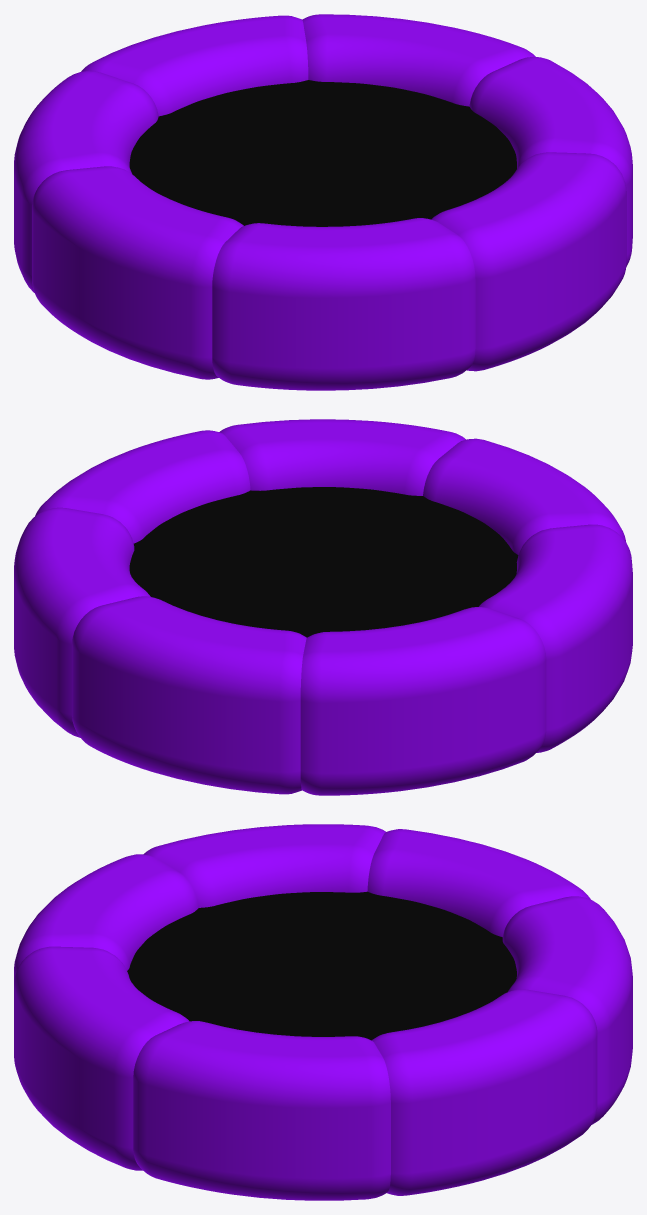
The model's file is trambolin yuvarlak.fbx.
The picture shows the model from 3 angles, top to bottom: view 1: azimuth 30°, elevation 25°; view 2: azimuth 150°, elevation 25°; view 3: azimuth 270°, elevation 25°; orthographic projection.
Visible parts, largest first — view 1: trambolin v4; view 2: trambolin v4; view 3: trambolin v4.
Boxes of the visible parts, x1=… form: trambolin v4: x1=14, y1=14, x2=632, y2=390; trambolin v4: x1=14, y1=419, x2=632, y2=795; trambolin v4: x1=14, y1=824, x2=632, y2=1200.
Bounding box in the file's own units: 15.99 × 4 × 15.98.
